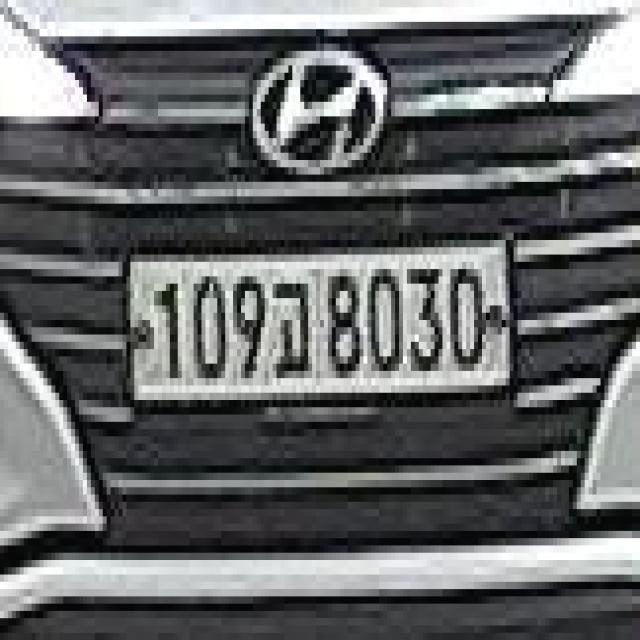illegal_plate: (122, 231, 518, 419)
